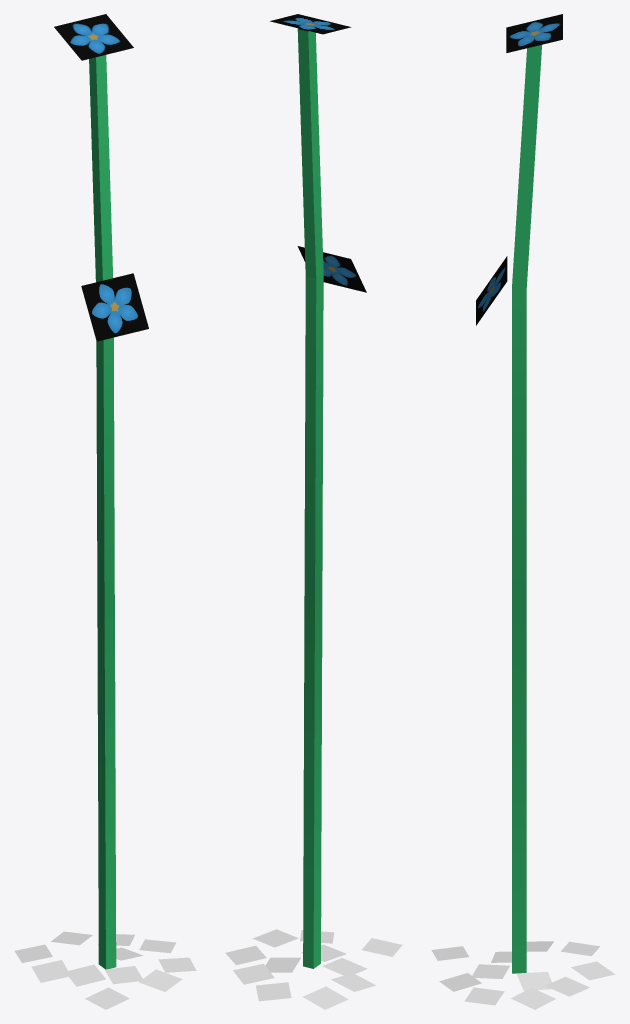
File: flax.glb
The picture shows the model from 3 angles, left to right: view 1: azimuth 30°, elevation 25°; view 2: azimuth 150°, elevation 25°; view 3: azimuth 270°, elevation 25°; orthographic projection. The views are drawn at different scales.
Visible parts, largest first — view 1: flax, flax_copy.002, flax_copy.001, flax_copy.007, flax_copy, flax_copy.006, flax_copy.003, flax_copy.008; view 2: flax, flax_copy.008, flax_copy.005, flax_copy.009, flax_copy.010, flax_copy.007, flax_copy.004, flax_copy.002, flax_copy.003, flax_copy; view 3: flax, flax_copy.010, flax_copy.004, flax_copy.003, flax_copy.005, flax_copy.009, flax_copy.006, flax_copy.001.
Part boxes in pixels (x1,y1,x2,y2): flax: (54, 14, 148, 969); flax_copy.002: (31, 960, 70, 982); flax_copy.001: (139, 969, 182, 991); flax_copy.007: (85, 987, 129, 1009); flax_copy: (68, 964, 105, 986); flax_copy.006: (104, 966, 142, 984); flax_copy.003: (158, 957, 196, 972); flax_copy.008: (14, 944, 52, 962); flax: (270, 14, 366, 968); flax_copy.008: (302, 986, 348, 1009); flax_copy.005: (256, 982, 291, 1001); flax_copy.009: (233, 963, 274, 984); flax_copy.010: (225, 945, 266, 965); flax_copy.007: (362, 938, 402, 956); flax_copy.004: (265, 957, 300, 972); flax_copy.002: (331, 973, 376, 991); flax_copy.003: (253, 929, 298, 947); flax_copy: (322, 958, 367, 975); flax: (476, 14, 562, 973); flax_copy.010: (511, 987, 555, 1009); flax_copy.004: (516, 971, 552, 990); flax_copy.003: (464, 987, 504, 1005); flax_copy.005: (571, 961, 615, 980); flax_copy.009: (545, 976, 589, 996); flax_copy.006: (472, 964, 509, 978); flax_copy.001: (439, 973, 481, 991).
Size of the model in its own units: 0.1287 by 0.8102 by 0.1434.
Materials: 1 (1 with a texture image).
